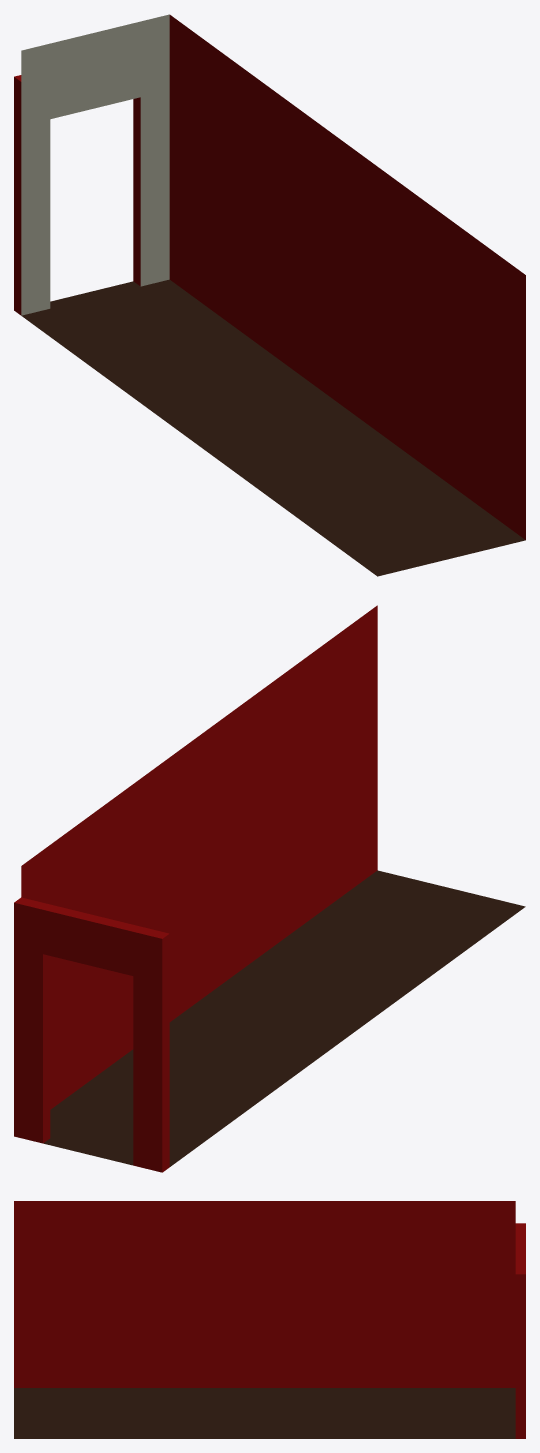
File: bar-corridor.glb
3 views of the same model, one above another, from view 1: azimuth 30°, elevation 25°; view 2: azimuth 150°, elevation 25°; view 3: azimuth 270°, elevation 25° (orthographic). The views are drawn at different scales.
Parts seen in each view (by area): view 1: Corridor; view 2: Corridor; view 3: Corridor.
Boxes of the visible parts, bbox=[...] form: Corridor: bbox=[14, 14, 525, 576]; Corridor: bbox=[14, 605, 525, 1172]; Corridor: bbox=[14, 1201, 525, 1438].
Size of the model in its own units: 1.64 by 2.8 by 6.96.
